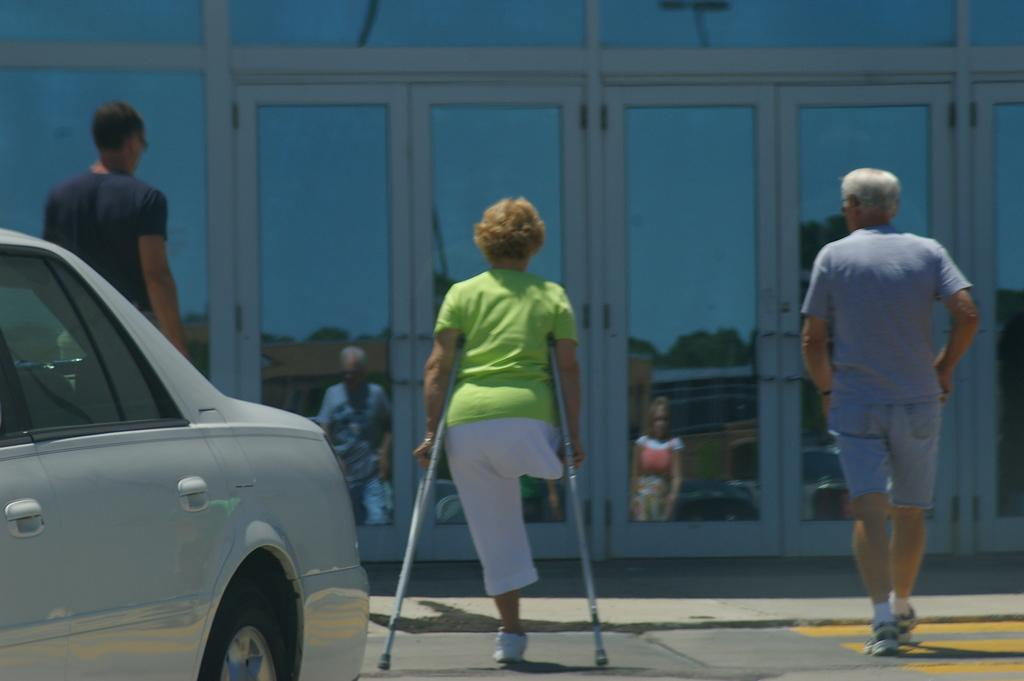crutches: (373, 192, 615, 679)
